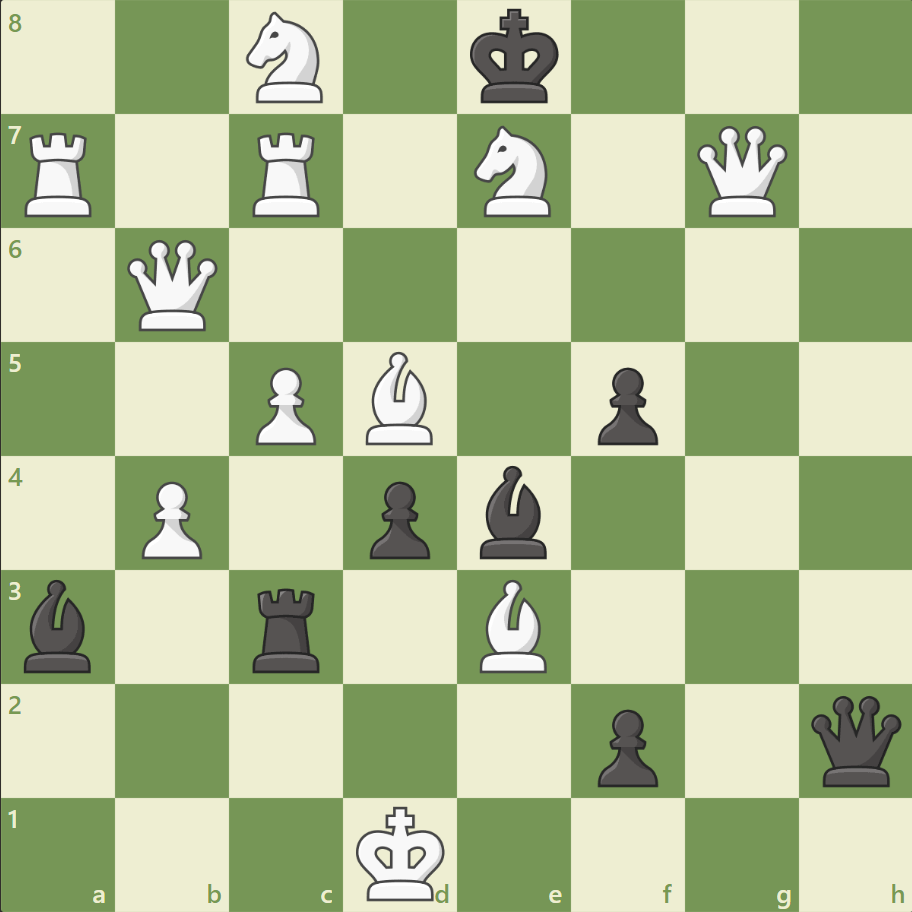B: (358, 347, 442, 449), (471, 574, 555, 676)
K: (351, 798, 451, 906)
N: (238, 7, 335, 110), (465, 121, 562, 223)
P: (247, 359, 322, 450), (133, 473, 208, 564)
Q: (691, 122, 790, 222), (124, 236, 223, 335)
R: (19, 125, 102, 222), (246, 125, 329, 222)
b: (471, 460, 555, 563), (17, 574, 101, 676)
k: (465, 4, 565, 112)
p: (588, 359, 662, 450), (361, 473, 435, 564), (588, 700, 662, 791)
q: (805, 690, 904, 789)
r: (246, 579, 329, 676)
